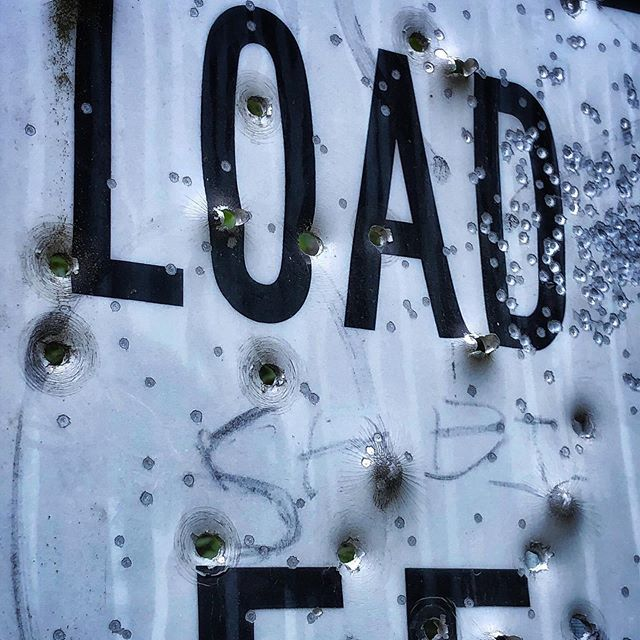sign: (13, 1, 640, 640)
